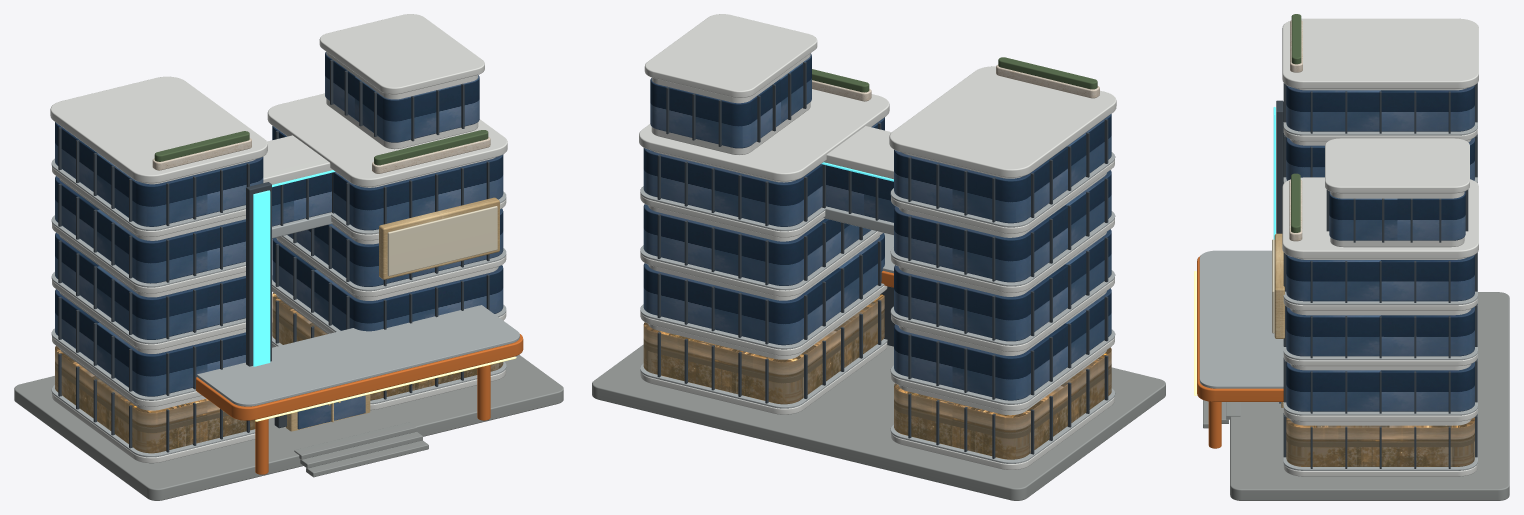
Rendered from level-4-web.glb.
The picture shows the model from 3 angles, left to right: view 1: azimuth 30°, elevation 25°; view 2: azimuth 150°, elevation 25°; view 3: azimuth 270°, elevation 25°; orthographic projection. The views are drawn at different scales.
Parts seen in each view (by area): view 1: body, roof, canopy, foundation, floors, details, entrance, sign, bridge; view 2: body, roof, foundation, floors, bridge, details; view 3: body, roof, foundation, canopy, floors, details, entrance, sign.
Part boxes in pixels (<box>): body: <box>55,122,503,453</box>; roof: <box>50,14,507,186</box>; canopy: <box>196,305,523,420</box>; foundation: <box>14,323,563,500</box>; floors: <box>51,158,506,463</box>; details: <box>152,130,490,366</box>; entrance: <box>255,356,516,477</box>; sign: <box>379,197,499,279</box>; bridge: <box>263,135,335,238</box>; body: <box>643,114,1111,459</box>; roof: <box>639,14,1116,181</box>; foundation: <box>592,344,1165,500</box>; floors: <box>640,152,1115,469</box>; bridge: <box>821,126,894,235</box>; details: <box>812,57,1099,101</box>; body: <box>1283,83,1477,468</box>; roof: <box>1282,18,1478,258</box>; foundation: <box>1230,292,1509,500</box>; canopy: <box>1197,250,1283,401</box>; floors: <box>1283,83,1477,476</box>; details: <box>1273,14,1302,241</box>; entrance: <box>1194,271,1283,448</box>; sign: <box>1272,233,1284,338</box>.
Bounding box in the file's own units: 6.45 × 4.67 × 4.34.
Materials: 13 (4 with a texture image).
